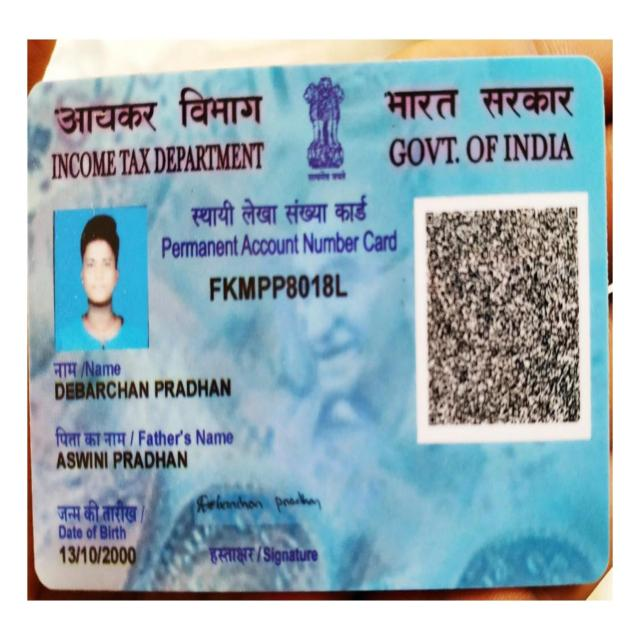pan_card: (31, 77, 602, 582)
